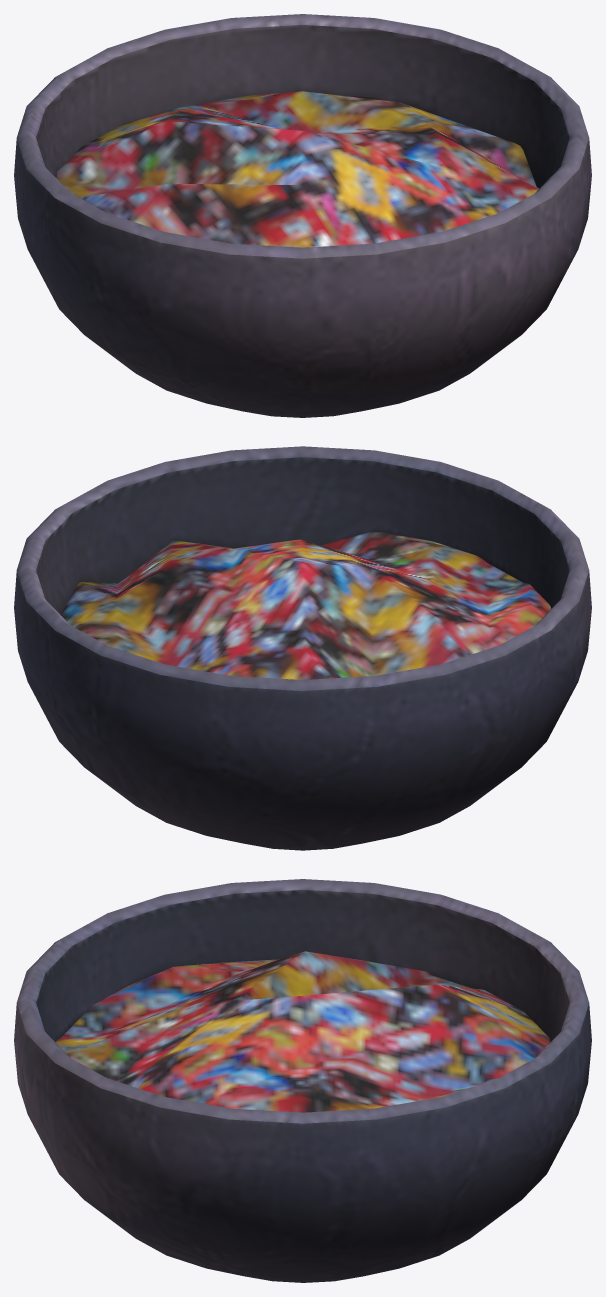
File: Bowl.fbx
3 renders of one model, top to bottom at view 1: azimuth 30°, elevation 25°; view 2: azimuth 150°, elevation 25°; view 3: azimuth 270°, elevation 25°, orthographic.
Parts seen in each view (by area): view 1: Bowl; view 2: Bowl; view 3: Bowl.
Part boxes in pixels (box(x1,y1,x2,y2)): Bowl: box(14, 14, 591, 417); Bowl: box(14, 446, 591, 850); Bowl: box(14, 879, 591, 1282).
Bounding box in the file's own units: 35 × 15.89 × 35.
